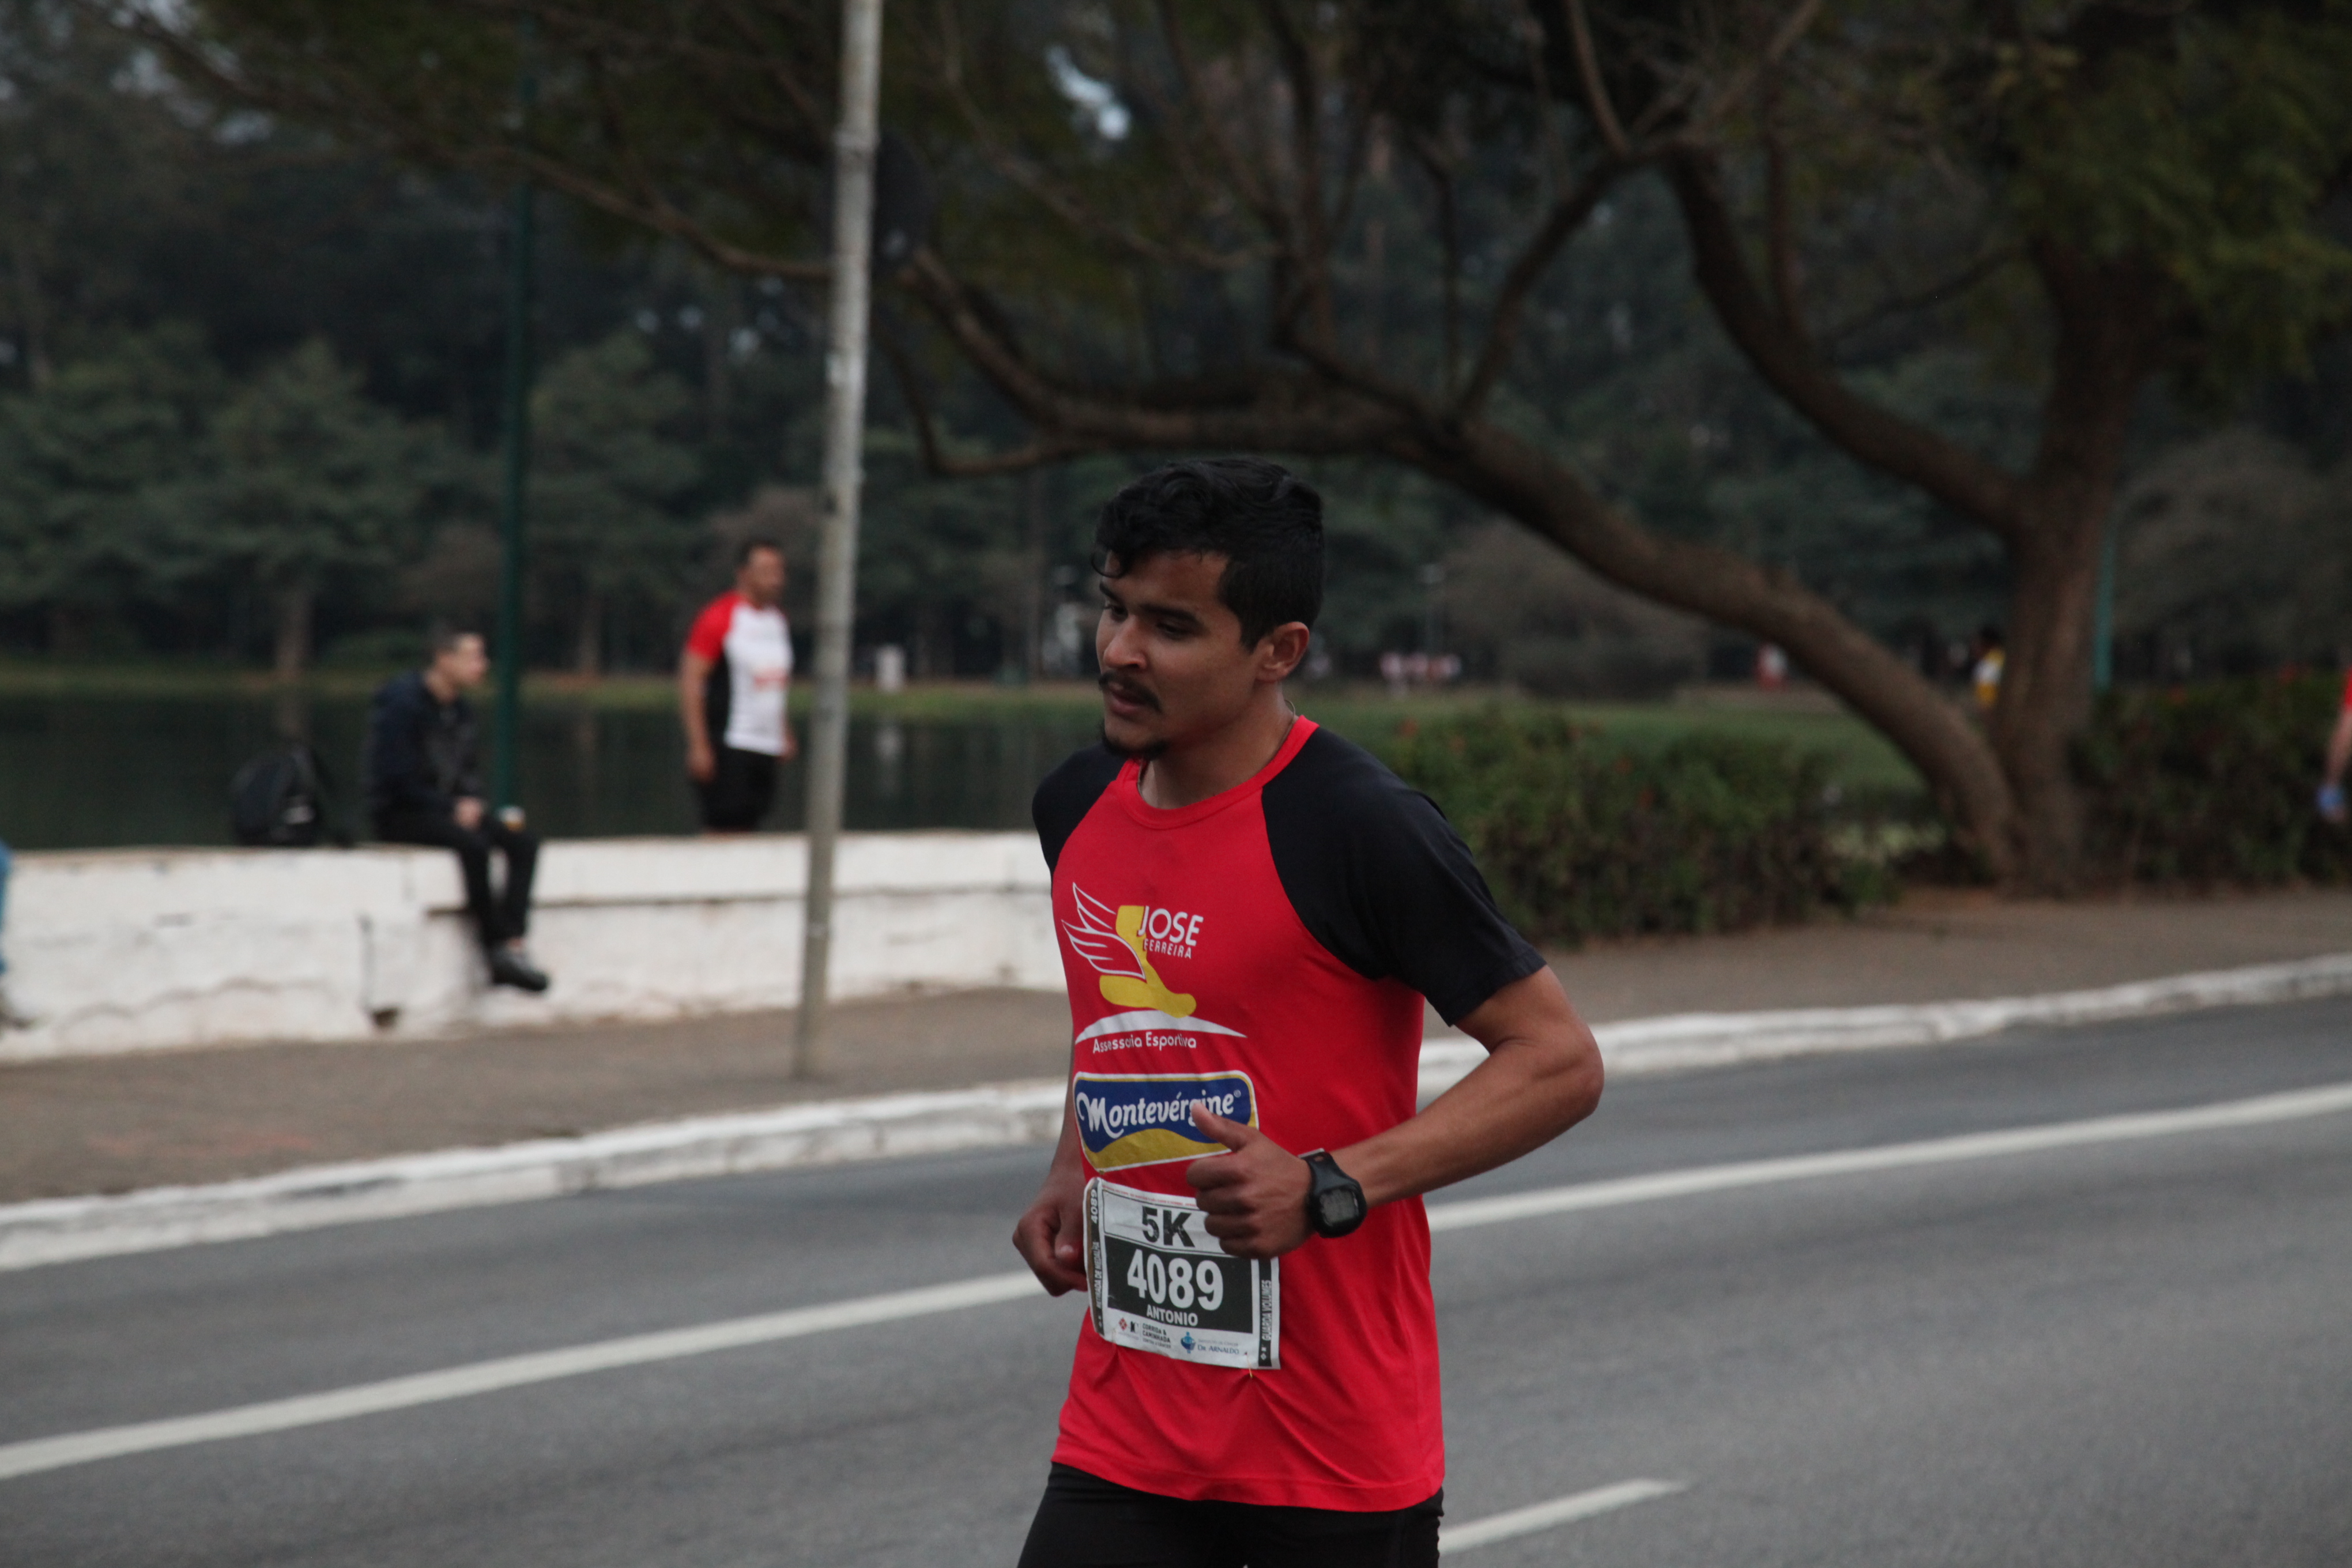bibtag: (1055, 1174, 1298, 1386)
